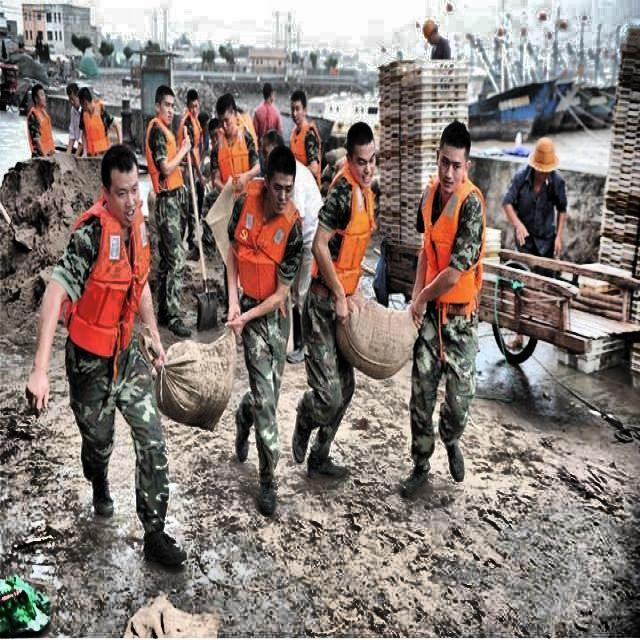safety_jacket: (67, 215, 150, 341), (417, 174, 478, 309), (238, 188, 294, 314), (316, 173, 376, 280), (144, 117, 182, 190), (216, 137, 248, 188)
